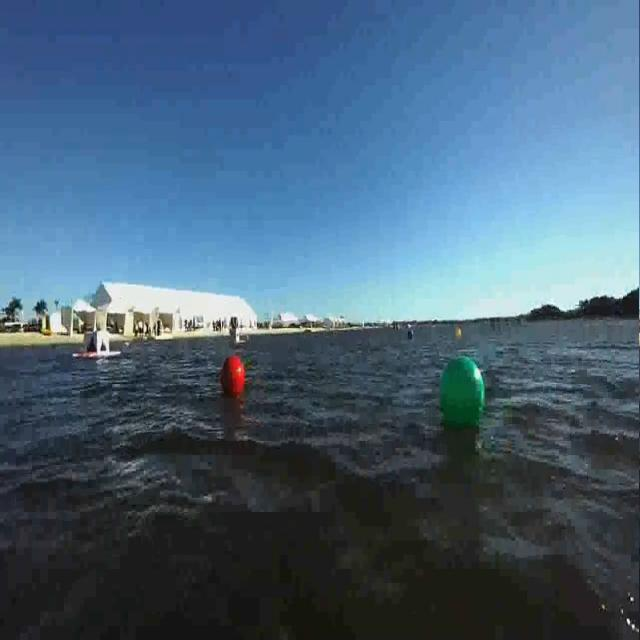blue-buoy: (407, 326, 414, 341)
green-buoy: (438, 353, 486, 432)
red-buoy: (220, 355, 243, 393)
yellow-buoy: (456, 326, 463, 338)
